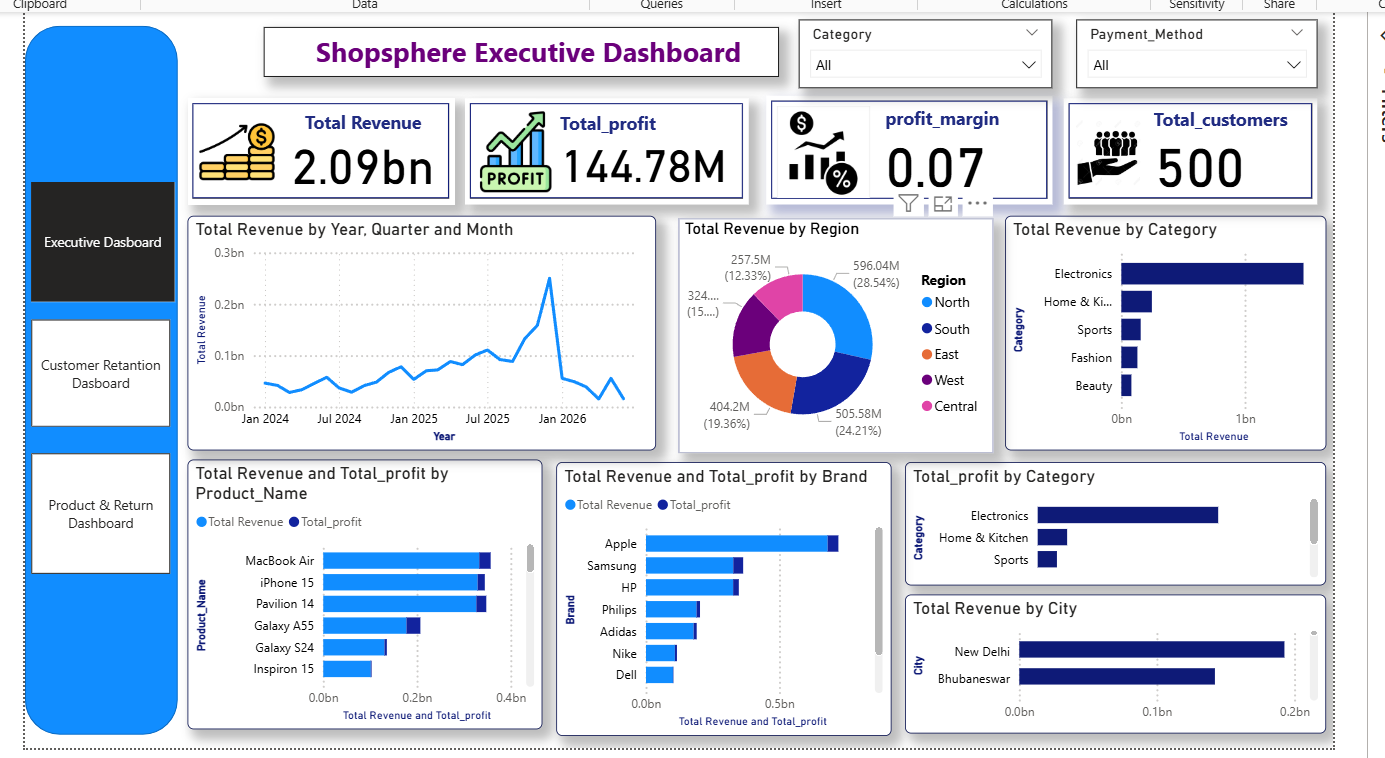

This screenshot's page, from the dashboard's own definition file:
{"tool":"powerbi","page":{"name":"Executive Dasboard","canvas":[1280,720],"ordinal":0},"visuals":[{"type":"cardVisual","fields":{"Data":["Order_Details.Total Revenue"]},"box":[159,84.4,261.7,103.9],"z":0},{"type":"textbox","box":[233.6,14.7,503.8,48.9],"z":1000},{"type":"cardVisual","fields":{"Data":["Order_Details.Total_profit"]},"box":[430.4,84.4,277.6,103.9],"z":2000},{"type":"cardVisual","fields":{"Data":["Order_Details.profit_margin"]},"box":[725.1,81.9,280,106.4],"z":3000},{"type":"barChart","fields":{"Category":["Products.Category"],"Y":["Order_Details.Total Revenue"]},"box":[958.7,199.3,314.3,229.9],"z":4000},{"type":"barChart","fields":{"Category":["Products.Category"],"Y":["Order_Details.Total_profit"]},"box":[860.9,440.2,412.1,121.1],"z":5000},{"type":"donutChart","fields":{"Y":["Order_Details.Total Revenue"],"Category":["Orders.Region"]},"box":[639.5,201.8,308.2,229.9],"z":6000},{"type":"barChart","fields":{"Category":["Products.Product_Name"],"Y":["Order_Details.Total Revenue","Order_Details.Total_profit"]},"box":[159,437.8,347.3,264.1],"z":7000},{"type":"barChart","fields":{"Category":["Products.Brand"],"Y":["Order_Details.Total Revenue","Order_Details.Total_profit"]},"box":[519.7,440.2,327.7,267.8],"z":8000},{"type":"barChart","fields":{"Y":["Order_Details.Total Revenue"],"Category":["Customers.City"]},"box":[860.9,569.8,412.1,135.7],"z":9000},{"type":"lineChart","fields":{"Y":["Order_Details.Total Revenue"],"Category":["Orders.Order_Date.Variation.Date Hierarchy.Year","Orders.Order_Date.Variation.Date Hierarchy.Quarter","Orders.Order_Date.Variation.Date Hierarchy.Month","Orders.Order_Date.Variation.Date Hierarchy.Day"]},"box":[159,199.3,458.6,229.9],"z":10000},{"type":"cardVisual","fields":{"Data":["Order_Details.Total_customers"]},"box":[1016.2,84.4,248.2,103.9],"z":11000},{"type":"slicer","fields":{"Values":["Products.Category"]},"box":[756.9,7.3,248.2,67.3],"z":12000},{"type":"slicer","fields":{"Values":["Orders.Payment_Method"]},"box":[1028.4,7.3,236,67.3],"z":13000},{"type":"shape","box":[0,13,149.4,693.5],"z":14000},{"type":"pageNavigator","box":[2.4,188.3,140.6,84.4],"z":15000},{"type":"pageNavigator","box":[5.2,394.8,136.4,85.7],"z":16000},{"type":"pageNavigator","box":[6.5,301.3,136.4,76.6],"z":17000}]}

Visuals, with their boxes in screenshot pixels (x1, y1, x2, y2):
cardVisual - Order_Details.Total Revenue: (183,95,454,203)
textbox: (260,22,783,73)
cardVisual - Order_Details.Total_profit: (465,95,753,203)
cardVisual - Order_Details.profit_margin: (770,92,1061,203)
barChart - Products.Category x Order_Details.Total Revenue: (1013,214,1339,452)
barChart - Products.Category x Order_Details.Total_profit: (911,464,1339,590)
donutChart - Order_Details.Total Revenue x Orders.Region: (681,217,1001,455)
barChart - Products.Product_Name x Order_Details.Total Revenue: (183,461,543,735)
barChart - Products.Brand x Order_Details.Total Revenue: (557,464,897,742)
barChart - Order_Details.Total Revenue x Customers.City: (911,598,1339,739)
lineChart - Order_Details.Total Revenue x Orders.Order_Date.Variation.Date Hierarchy.Year: (183,214,659,452)
cardVisual - Order_Details.Total_customers: (1072,95,1330,203)
slicer - Products.Category: (803,15,1061,85)
slicer - Orders.Payment_Method: (1085,15,1330,85)
shape: (18,21,173,740)
pageNavigator: (21,203,166,290)
pageNavigator: (23,417,165,506)
pageNavigator: (25,320,166,399)
